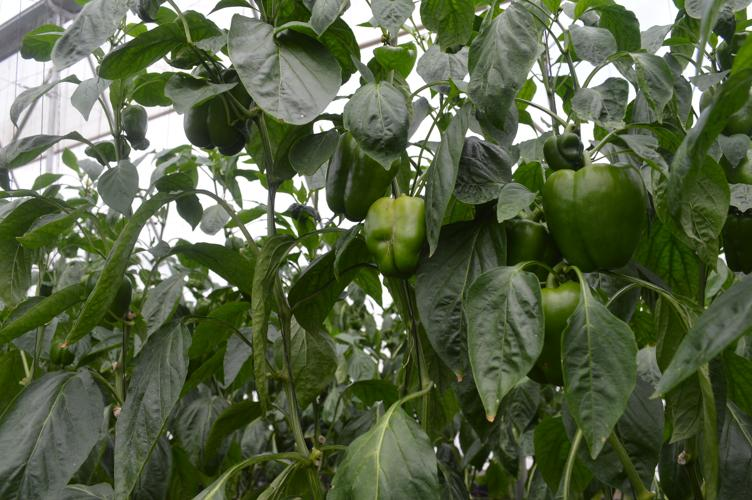BellPepper: (545, 164, 647, 268), (528, 279, 595, 384), (324, 137, 400, 220), (368, 196, 428, 272), (186, 89, 241, 154), (501, 222, 559, 270), (542, 132, 574, 175)
